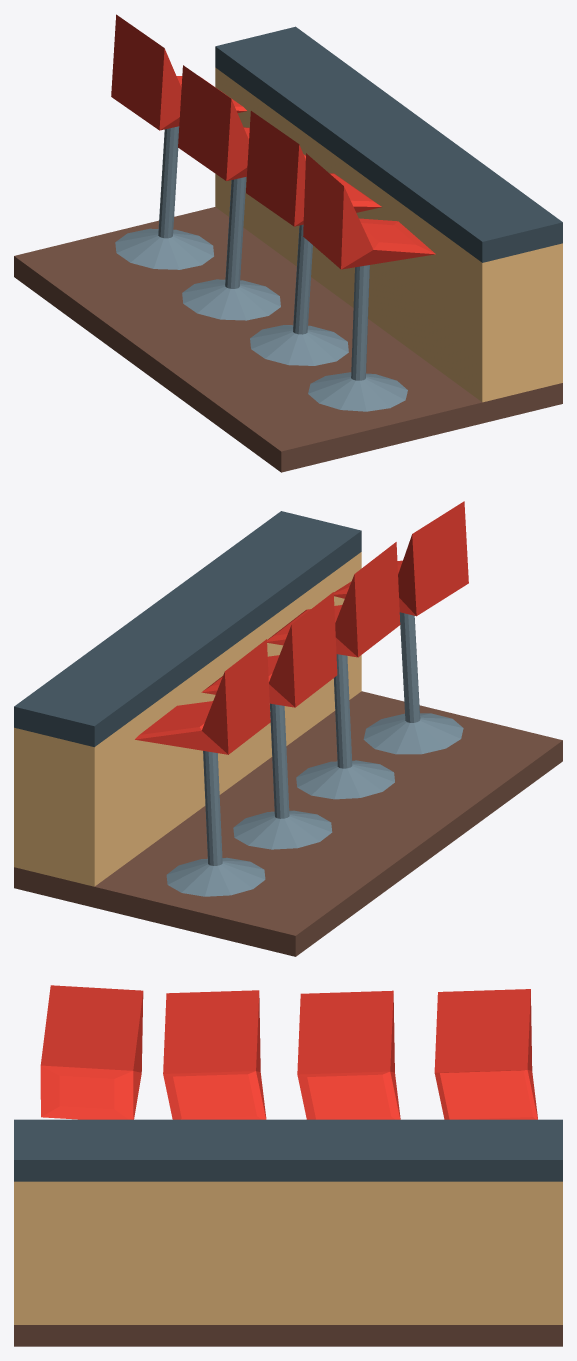
The model's file is scene_nNhvP4smRj.glb.
3 views of the same model, one above another, from view 1: azimuth 30°, elevation 25°; view 2: azimuth 150°, elevation 25°; view 3: azimuth 270°, elevation 25° (orthographic). The views are drawn at different scales.
Visible parts, largest first — view 1: group1858430045, group268514855, group1528812451, group832219680, group1663035048, group135430294; view 2: group1858430045, group268514855, group832219680, group1528812451, group1663035048, group135430294; view 3: group1858430045, group1528812451, group832219680, group135430294, group1663035048, group268514855.
Boxes of the visible parts, box(x1,y1,x2,y2) form: group1858430045: box(215, 26, 562, 402); group268514855: box(14, 207, 562, 472); group1528812451: box(303, 153, 435, 411); group832219680: box(111, 14, 246, 269); group1663035048: box(178, 65, 305, 320); group135430294: box(246, 111, 381, 365); group1858430045: box(14, 511, 361, 886); group268514855: box(14, 691, 562, 956); group832219680: box(135, 639, 270, 896); group1528812451: box(333, 501, 468, 754); group1663035048: box(201, 592, 337, 849); group135430294: box(267, 542, 400, 799); group1858430045: box(14, 1119, 562, 1324); group1528812451: box(40, 985, 143, 1119); group832219680: box(434, 989, 537, 1119); group135430294: box(163, 990, 266, 1119); group1663035048: box(297, 990, 400, 1119); group268514855: box(14, 1325, 562, 1346).
Size of the model in its own units: 1.12 by 0.9637 by 1.84.
